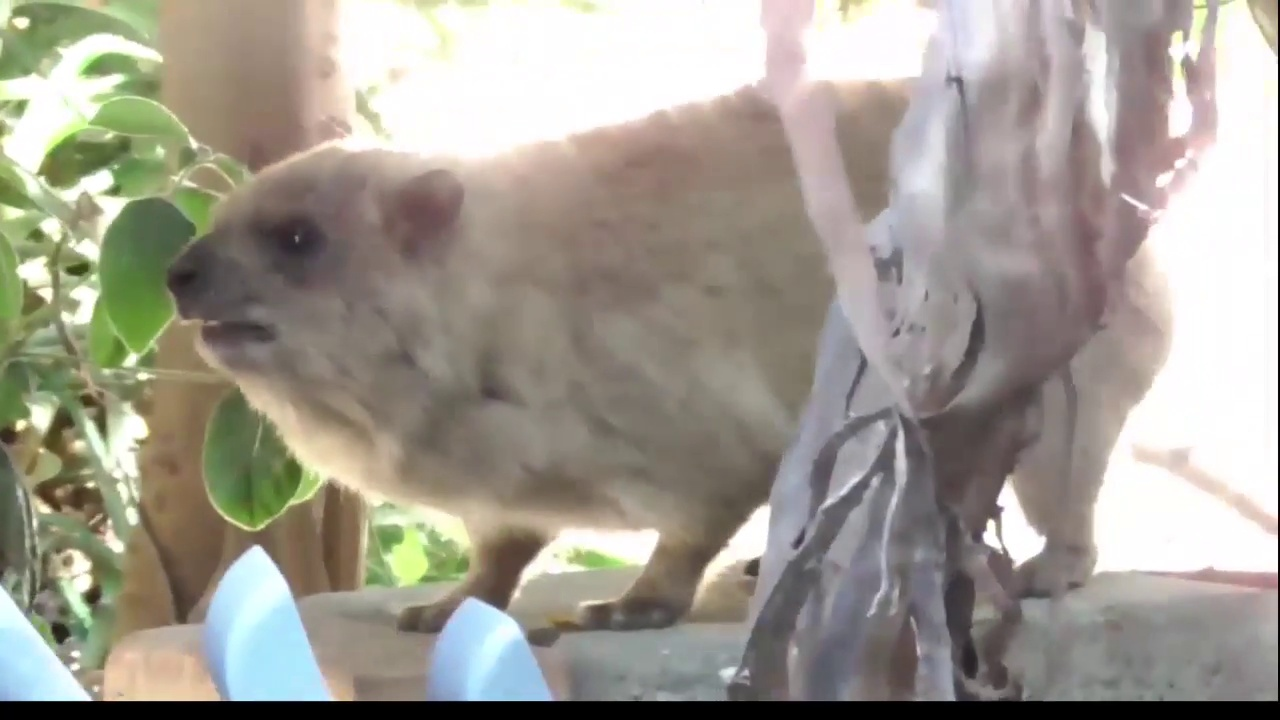Rock Hyrex: (167, 80, 1179, 630)
